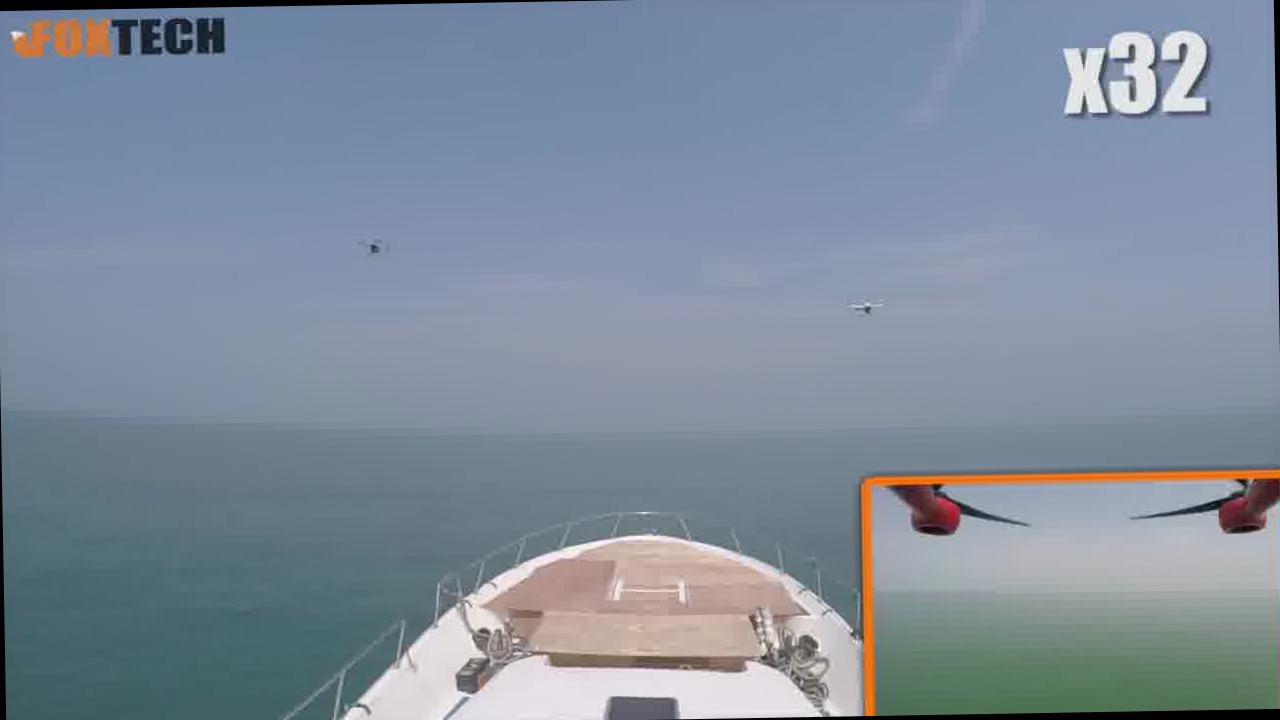drone: (836, 288, 894, 332), (352, 226, 400, 267)
